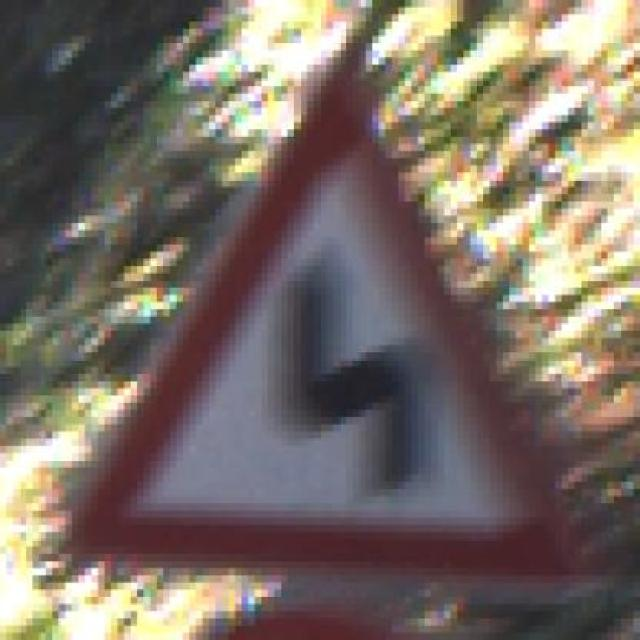Left Zig Zag Traffic: (65, 65, 608, 597)
